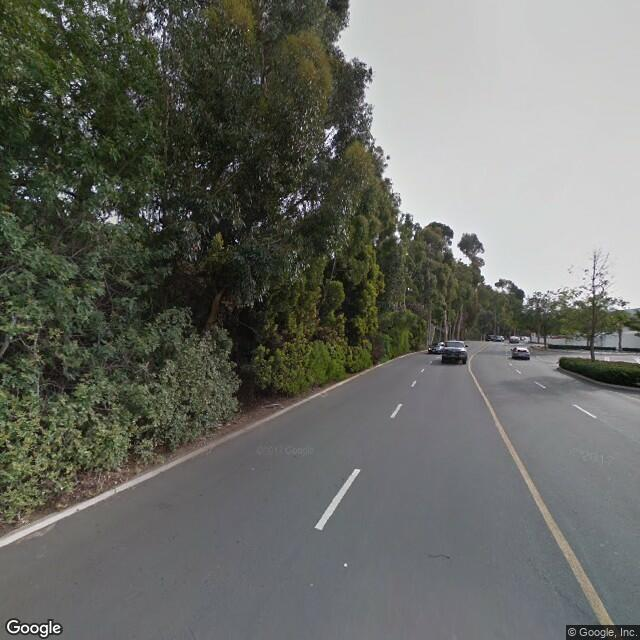litter: (111, 478, 123, 488), (18, 519, 30, 527), (59, 486, 66, 493)
